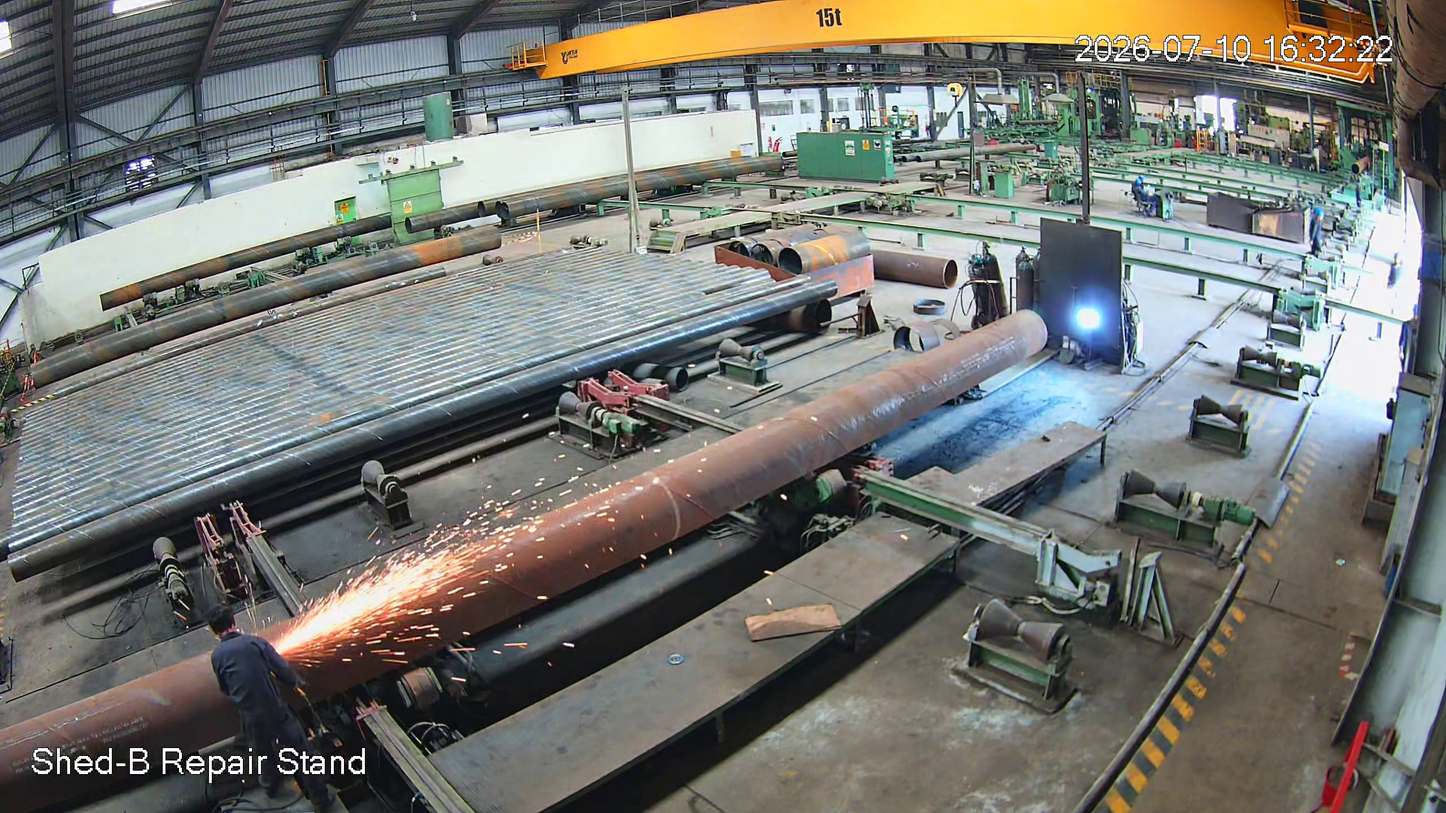Person: (202, 603, 337, 813)
